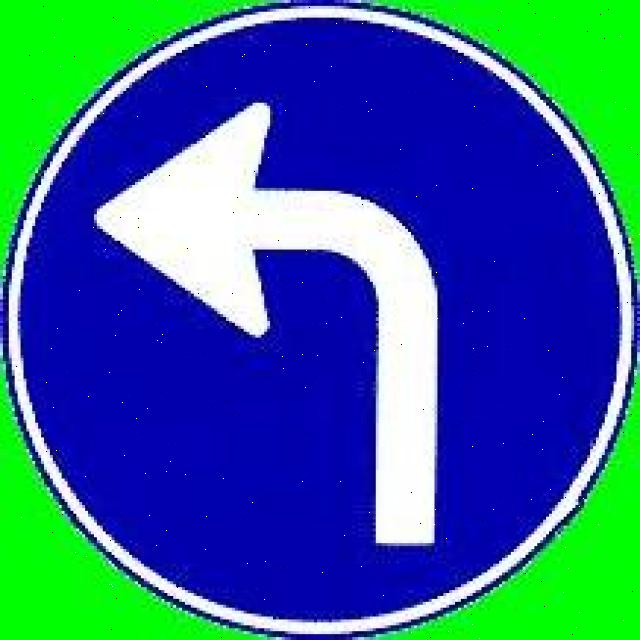left: (86, 102, 461, 552)
